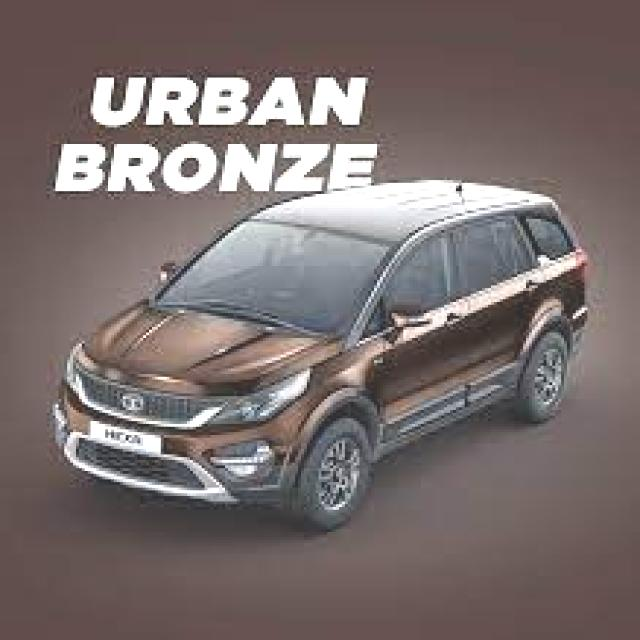SUV: (52, 184, 582, 534)
